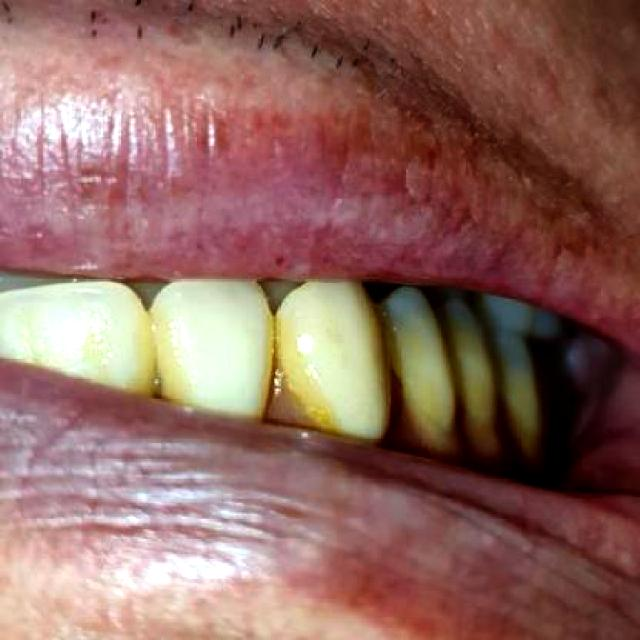Plaque: (271, 360, 310, 419)
